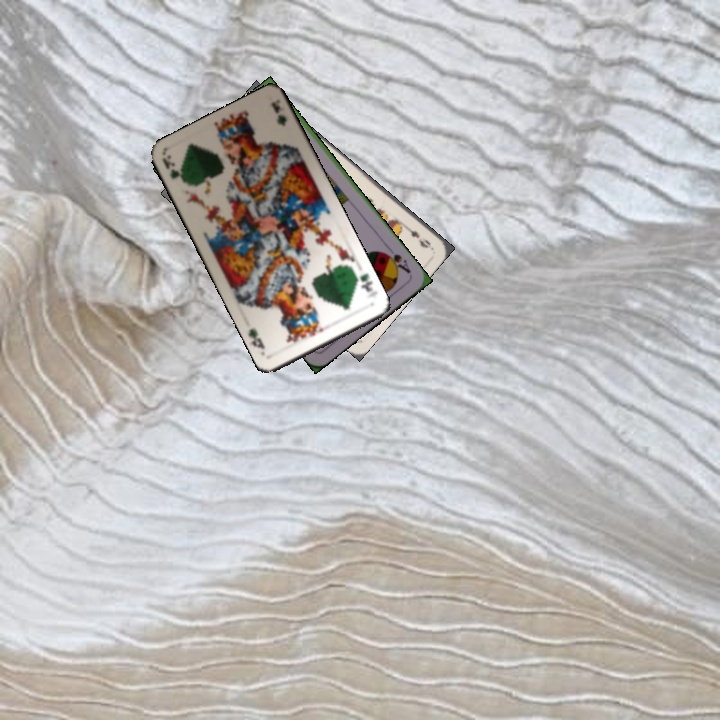E9: (397, 221, 433, 251)
GK: (158, 154, 189, 186), (350, 269, 380, 301)
SA: (379, 248, 414, 276)
